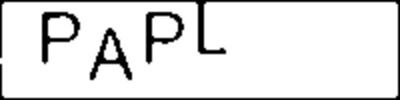A: (87, 22, 137, 85)
L: (194, 1, 234, 58)
P: (141, 5, 187, 63), (37, 7, 82, 64)
